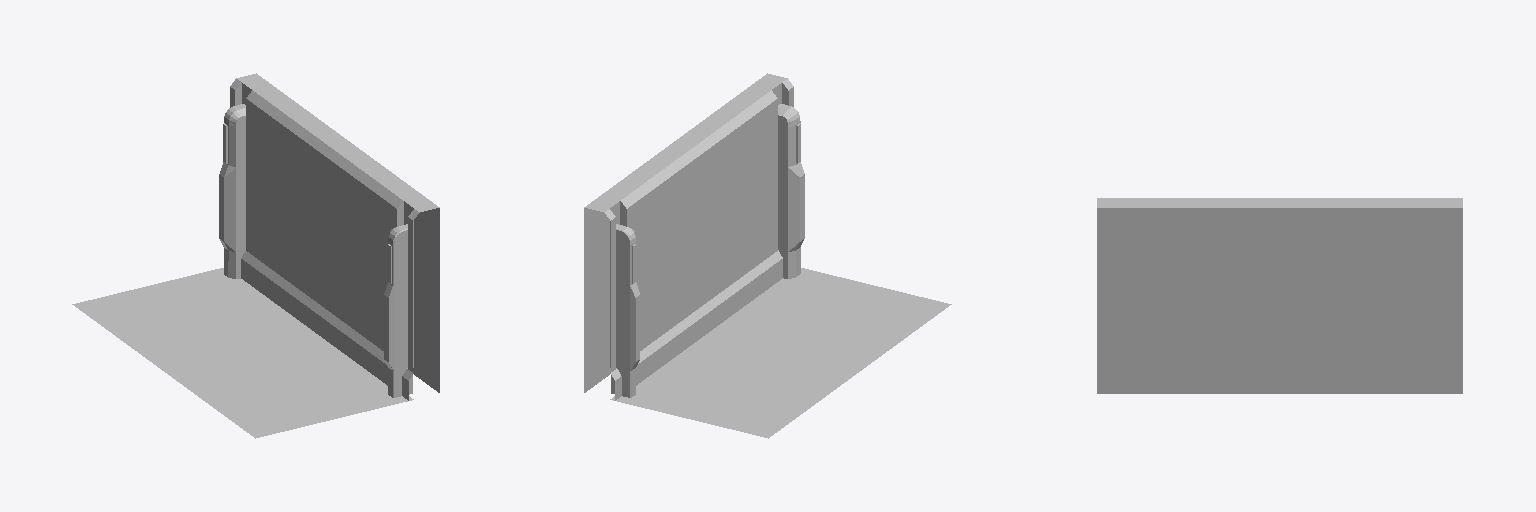
Rendered from wallSimple.obj.
3 views of the same model, side by side, from view 1: azimuth 30°, elevation 25°; view 2: azimuth 150°, elevation 25°; view 3: azimuth 270°, elevation 25° (orthographic).
Parts seen in each view (by area): view 1: floor_wall; view 2: floor_wall; view 3: floor_wall.
Boxes of the visible parts, box(x1,y1,x2,y2) form: floor_wall: box(72, 73, 439, 438); floor_wall: box(584, 73, 951, 438); floor_wall: box(1097, 198, 1462, 393).
Bounding box in the file's own units: 2.9 × 2.8 × 5.